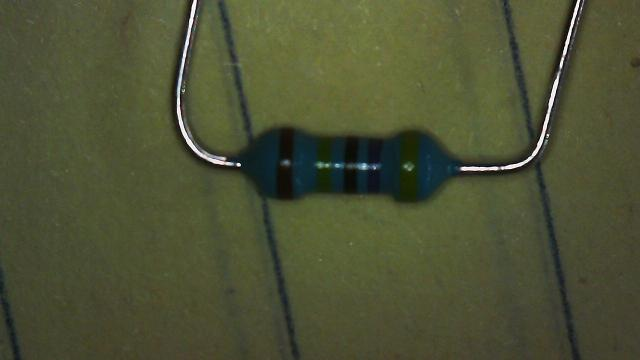black: (343, 137, 358, 194)
brown: (276, 128, 294, 198)
resistor: (238, 119, 460, 221)
violet: (366, 139, 382, 192)
yellow: (398, 132, 419, 201), (316, 136, 332, 192)
